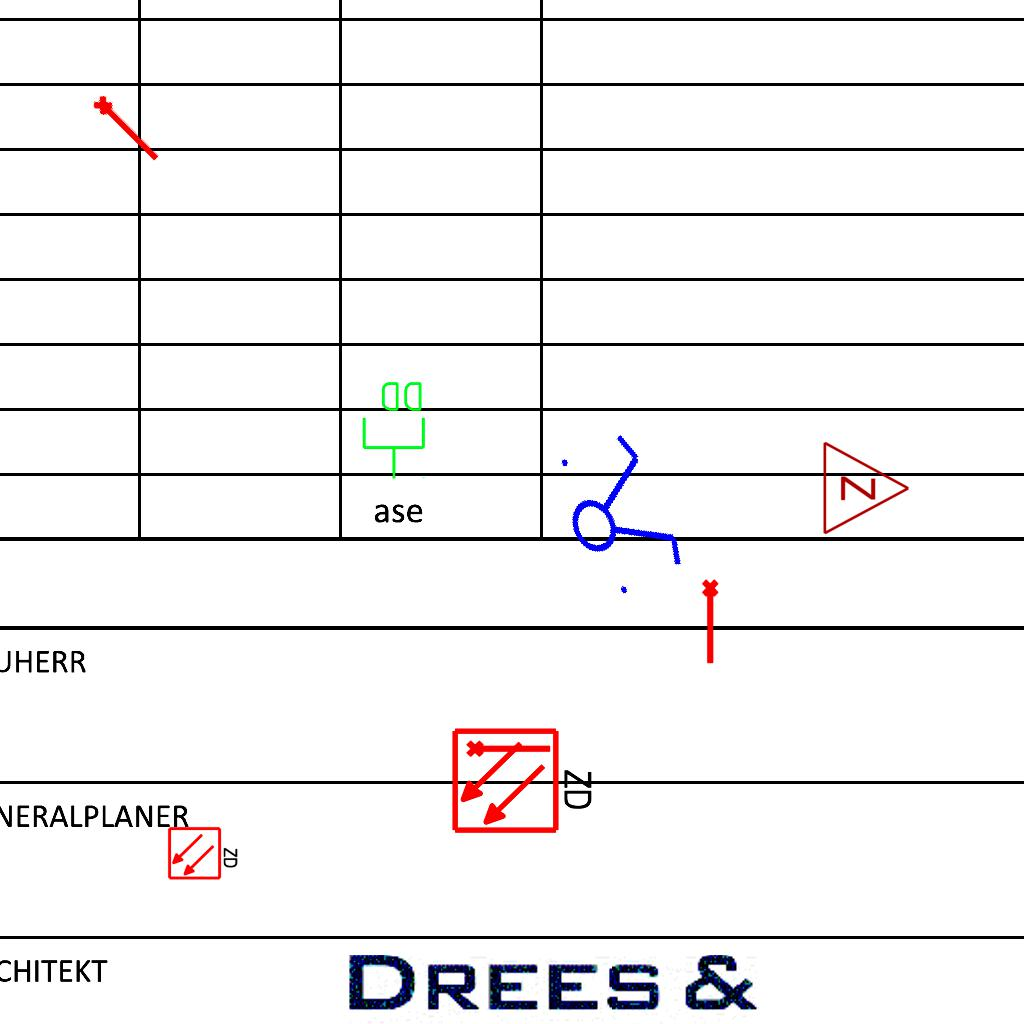ASR_Ansaugoeffnung: (88, 89, 168, 168), (700, 578, 723, 666), (465, 736, 553, 759)
Datenanschluss_zweifach: (360, 378, 429, 481)
Serienschalter: (537, 417, 697, 611)
ZD_Melder_in_Zwischendecke_mit_Revisionsoeffnung_mind_40_x_40_cm: (450, 722, 599, 836), (167, 824, 241, 881)
Zimmersignalleuchte: (816, 438, 916, 536)
